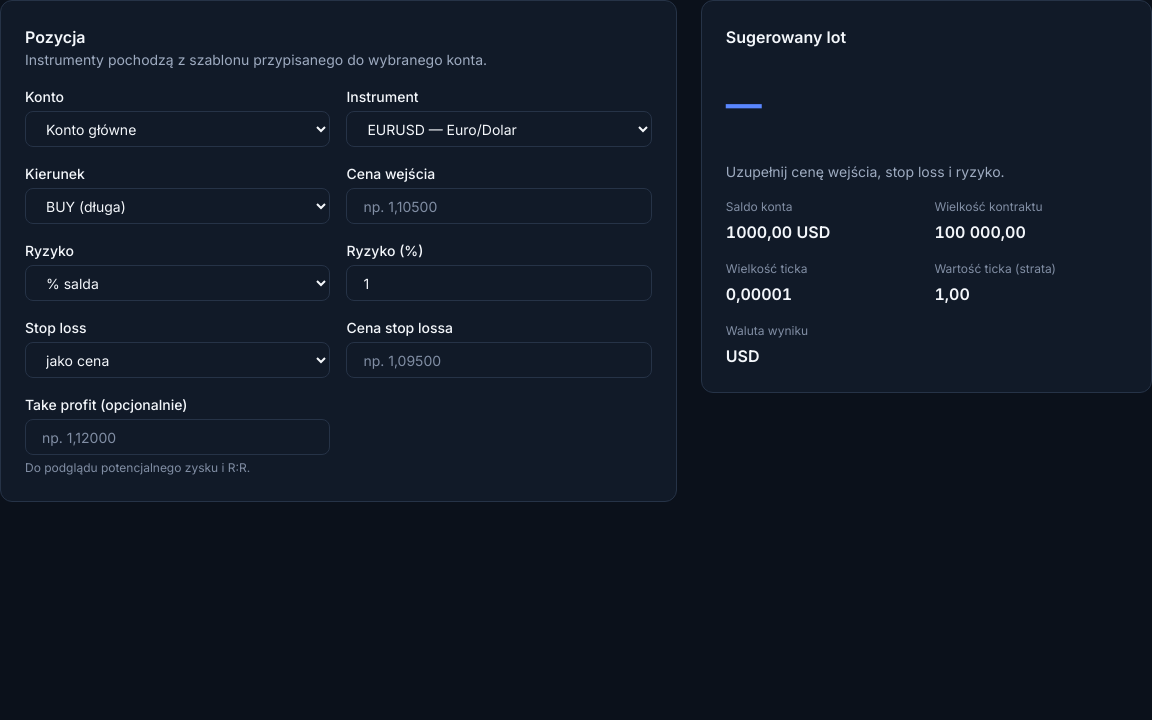
Scenario: KalkulatorPozycjiPage › kompletne dane po opóźnieniu wołają backend i pokazują sugerowany lot
Type "1.10500" into the field labelled "Cena wejścia" at (499, 206), box [346,188,652,224]
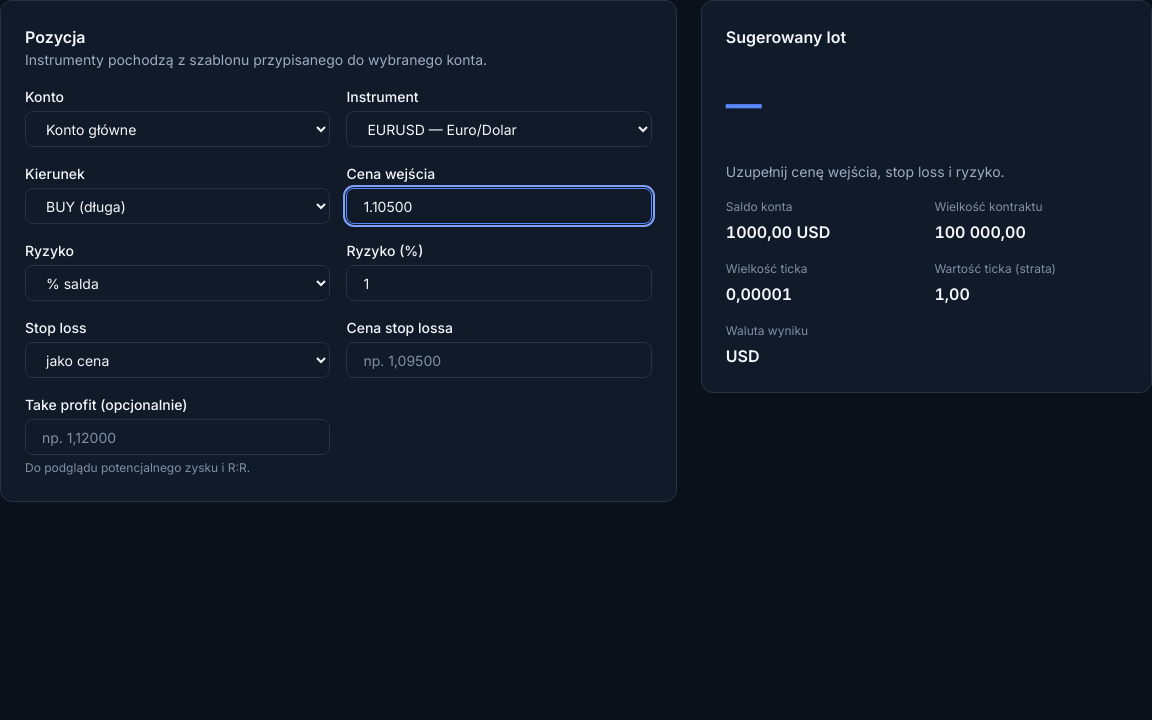
Type "200" into the field labelled "Cena stop lossa" at (499, 360), box [346,342,652,378]
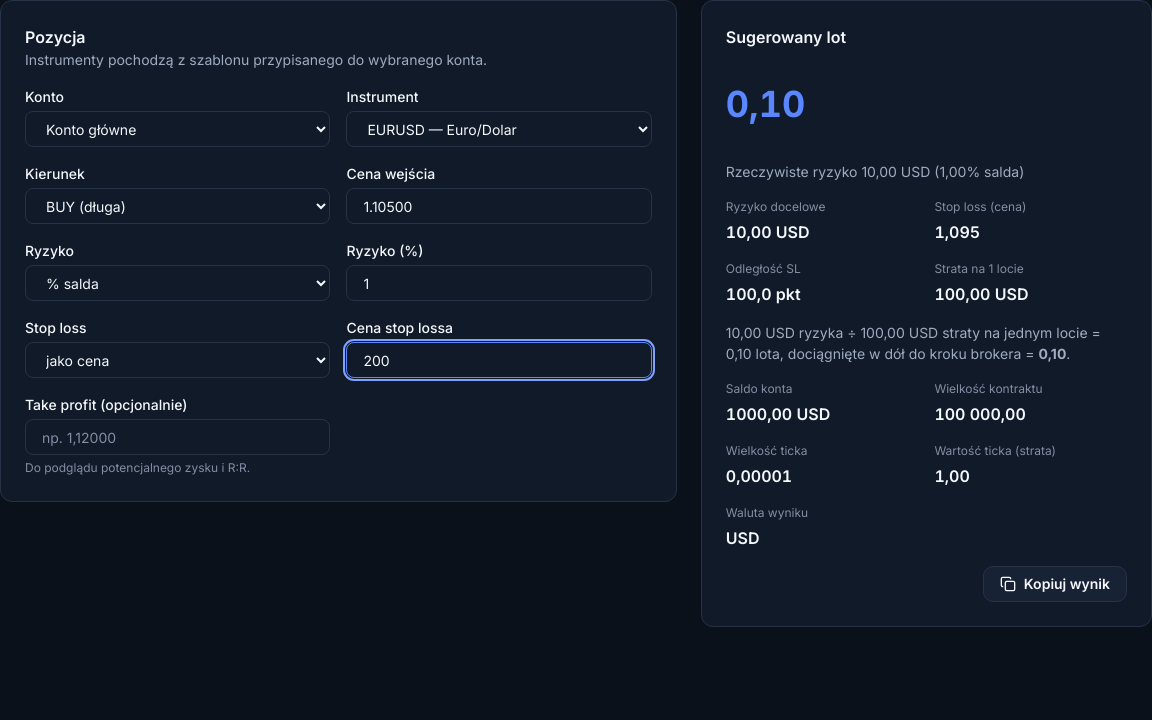
Result: the text "0,10" below "Sugerowany lot" is shown at [726,82,805,126]
